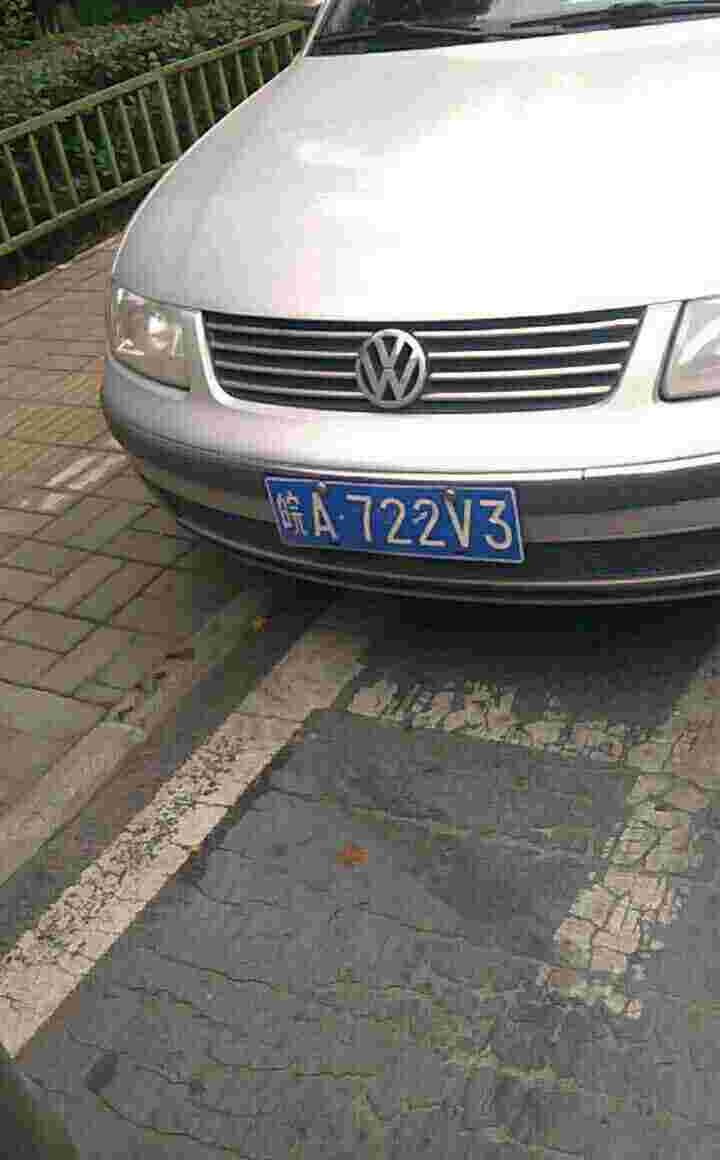plate: (260, 474, 531, 565)
